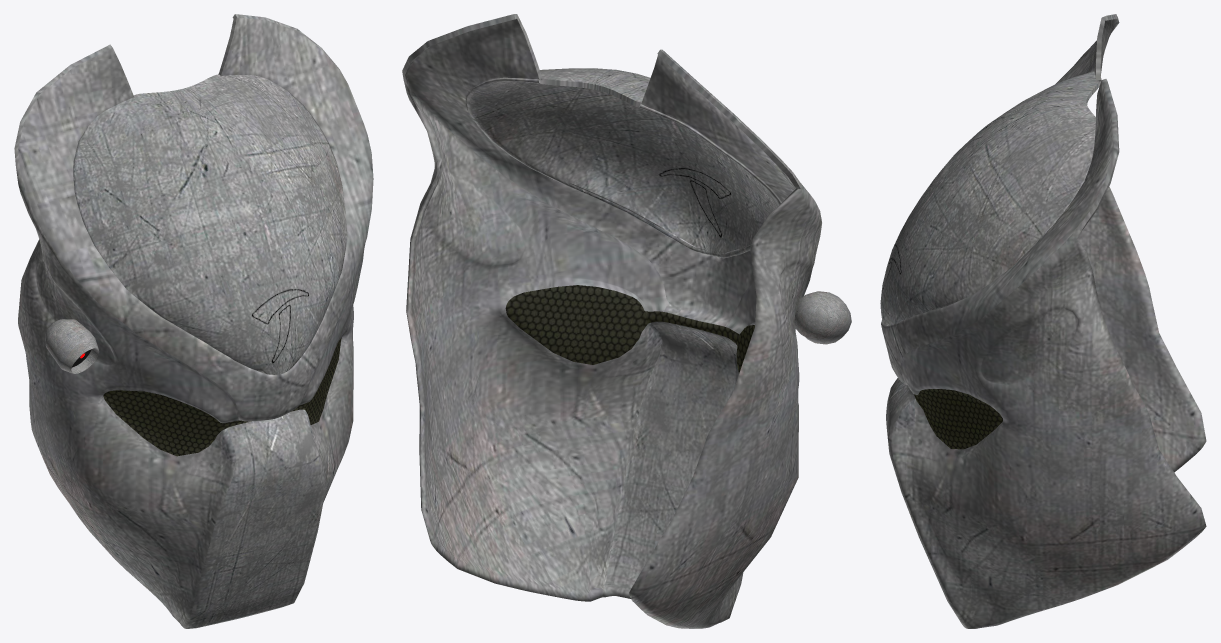
File: predator_mask.glb
The picture shows the model from 3 angles, left to right: view 1: azimuth 30°, elevation 25°; view 2: azimuth 150°, elevation 25°; view 3: azimuth 270°, elevation 25°; orthographic projection. The views are drawn at different scales.
Parts seen in each view (by area): view 1: Mask_01 - Default_0, Mask_03 - Default_0; view 2: Mask_01 - Default_0, Mask_03 - Default_0; view 3: Mask_01 - Default_0, Mask_03 - Default_0.
Boxes of the visible parts, x1=… form: Mask_01 - Default_0: x1=14, y1=14, x2=373, y2=628; Mask_03 - Default_0: x1=103, y1=337, x2=341, y2=456; Mask_01 - Default_0: x1=402, y1=14, x2=851, y2=628; Mask_03 - Default_0: x1=505, y1=285, x2=754, y2=373; Mask_01 - Default_0: x1=880, y1=14, x2=1206, y2=628; Mask_03 - Default_0: x1=910, y1=387, x2=1002, y2=449.
Size of the model in its own units: 252 by 383 by 203.
3 materials, 3 textured.
